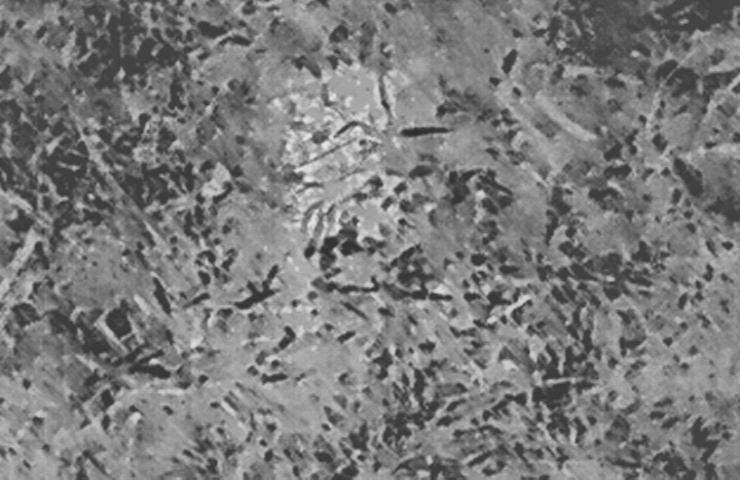landmines: (276, 60, 422, 234)
